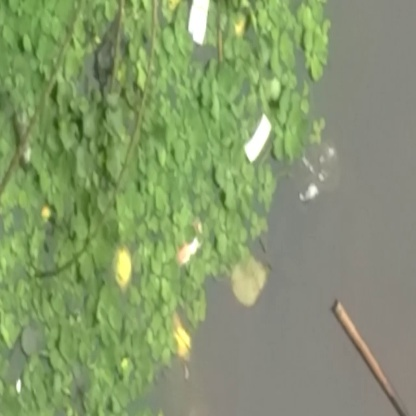branch: (326, 301, 410, 416)
